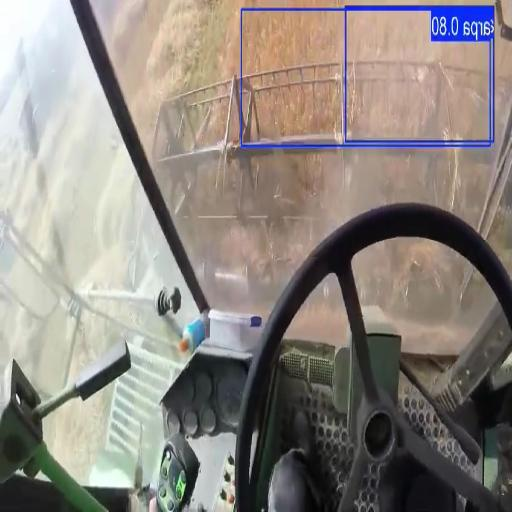arpa: (348, 13, 485, 77), (347, 65, 436, 136), (242, 12, 344, 73), (278, 90, 330, 133), (449, 92, 482, 134), (219, 30, 240, 71)
